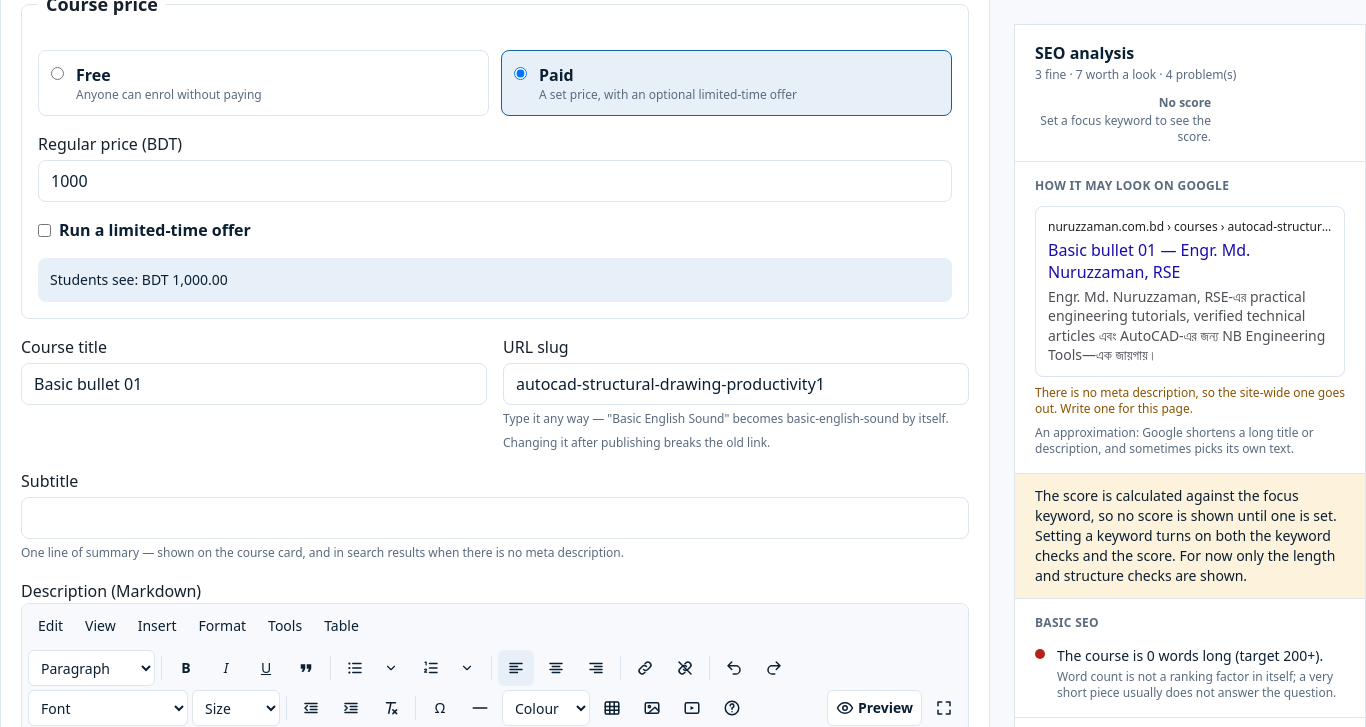
CourseEditor slug and publishing › refuses a slug with no English letters before sending anything
(page scrolled)
Replace the text in the field labelled "URL slug" with "বাংলা" at [736, 384], box [503,363,969,405]
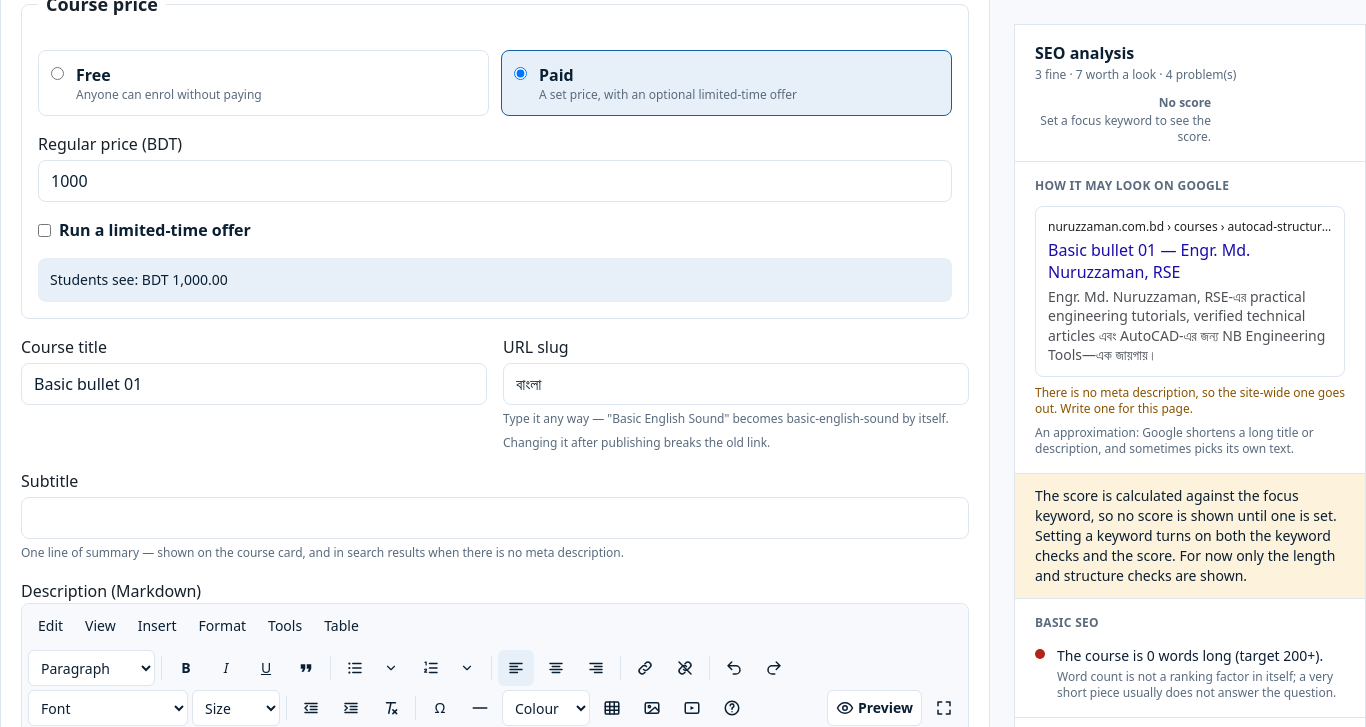
Replace the text in the field labelled "Course title" with "বেসিক কোর্স" at [254, 384], box [21,363,487,405]
(page scrolled)
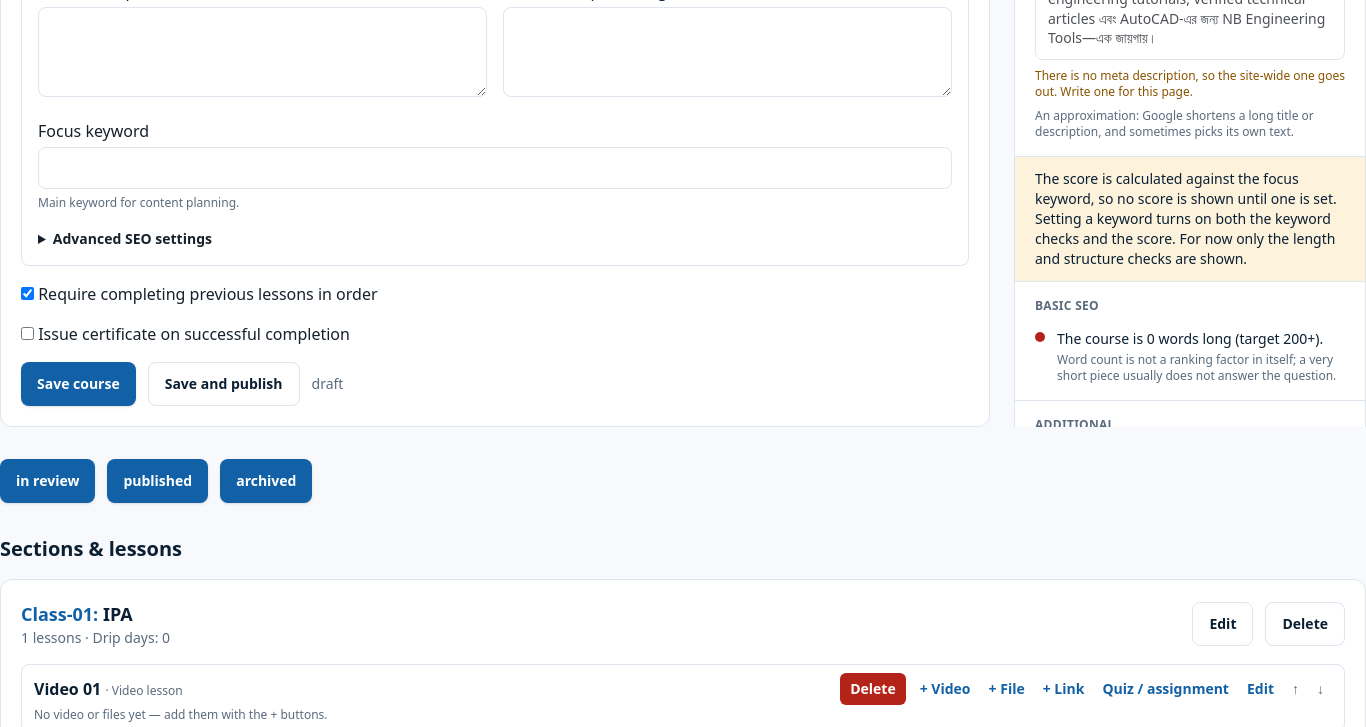
Click the button "Save course" at [78, 384], box [21,362,136,406]
(page scrolled)
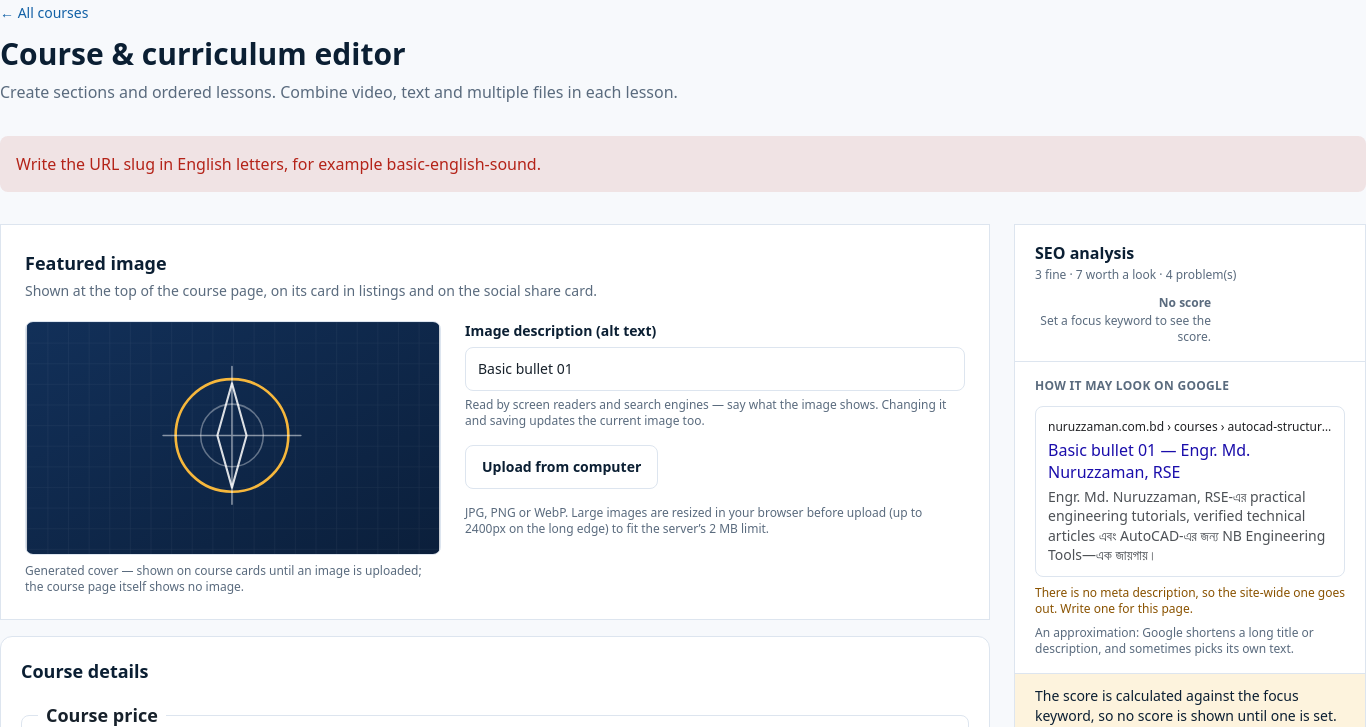
Now the message shows "English letters", box [16,153,541,175]
